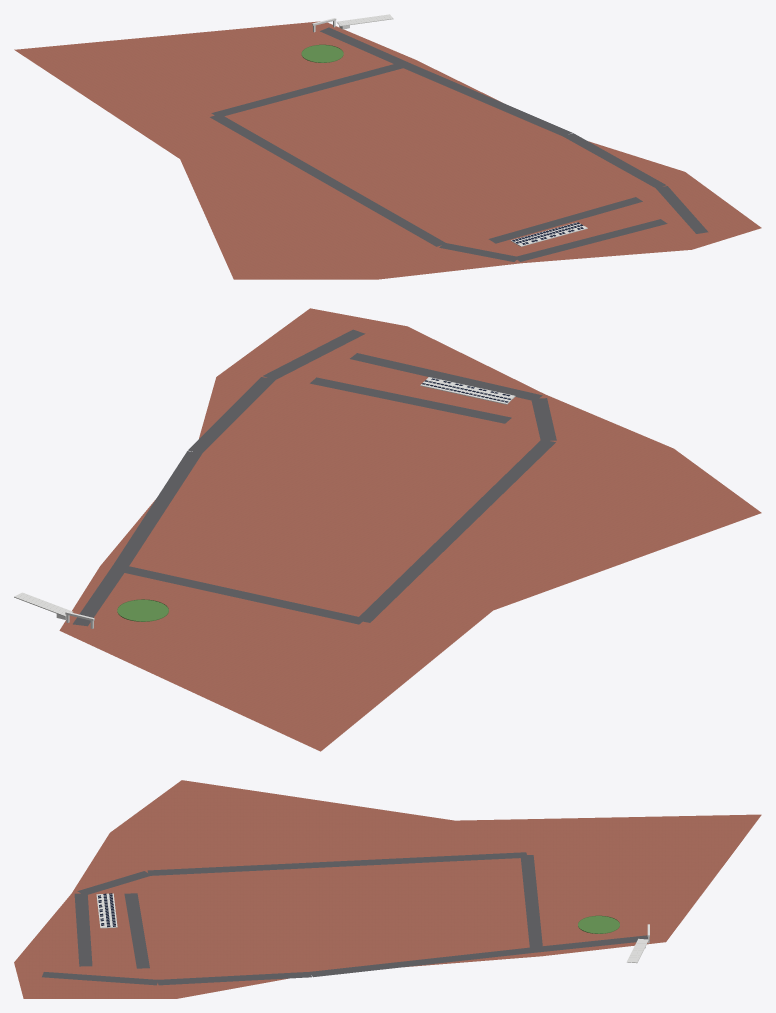
File: campus.glb
3 renders of one model, top to bottom at view 1: azimuth 30°, elevation 25°; view 2: azimuth 150°, elevation 25°; view 3: azimuth 270°, elevation 25°, orthographic. The views are drawn at different scales.
Visible parts, largest first — view 1: Campus paving, Campus roads, Entrance garden, Car port; view 2: Campus paving, Campus roads, Entrance garden, Car port; view 3: Campus paving, Campus roads, Entrance garden, Car port.
Part boxes in pixels (x1,y1,x2,y2): Campus paving: (14,21,761,279); Campus roads: (210,27,708,261); Entrance garden: (301,44,343,62); Car port: (510,222,587,246); Campus paving: (59,308,761,751); Campus roads: (73,329,556,626); Entrance garden: (117,599,168,621); Car port: (420,377,515,404); Campus paving: (14,780,761,998); Campus roads: (42,852,649,985); Entrance garden: (578,915,619,933); Car port: (96,893,117,928).
Size of the model in its own units: 314 by 5.6 by 454.
6 materials, 3 textured.
